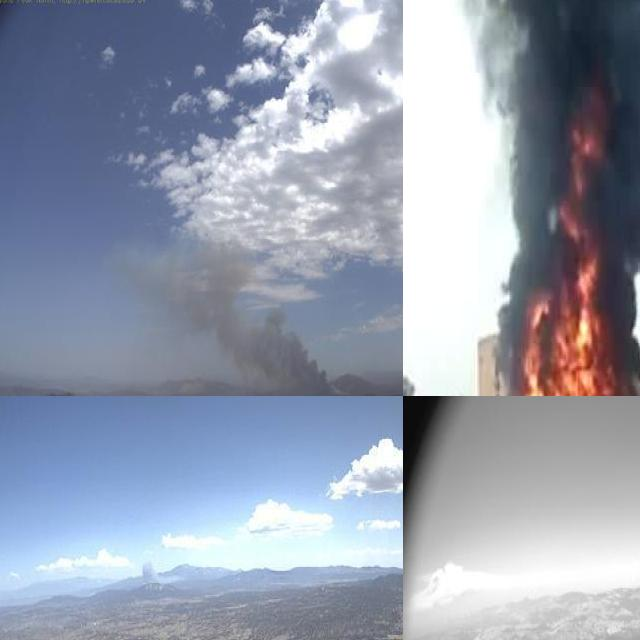fire: (495, 78, 639, 396)
smoke: (460, 0, 640, 356), (108, 224, 354, 396), (123, 552, 182, 590)
